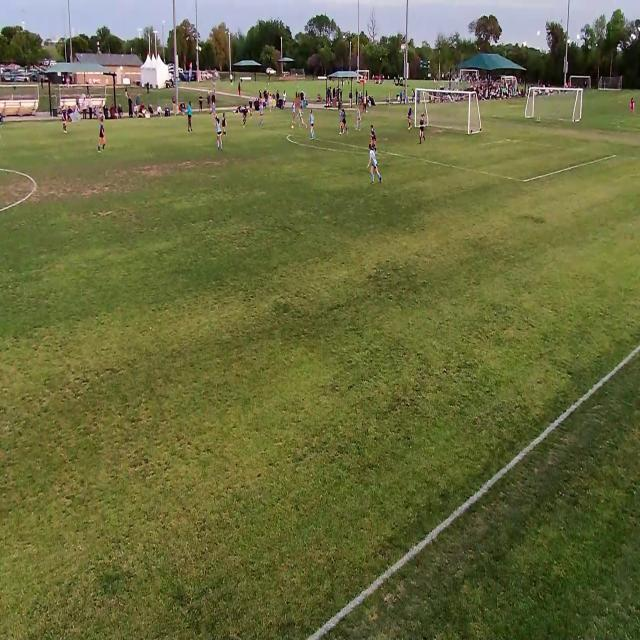ball: (290, 124, 294, 130)
team1: (418, 108, 426, 146), (369, 125, 378, 153), (99, 118, 106, 152), (62, 105, 68, 136), (342, 107, 348, 135), (222, 110, 227, 138), (242, 105, 248, 128), (248, 98, 254, 120)
team2: (368, 143, 384, 187), (296, 106, 308, 130), (217, 116, 224, 150), (309, 112, 315, 142), (259, 100, 265, 126), (356, 106, 362, 132), (212, 102, 217, 126), (291, 100, 296, 124), (338, 107, 342, 133)
